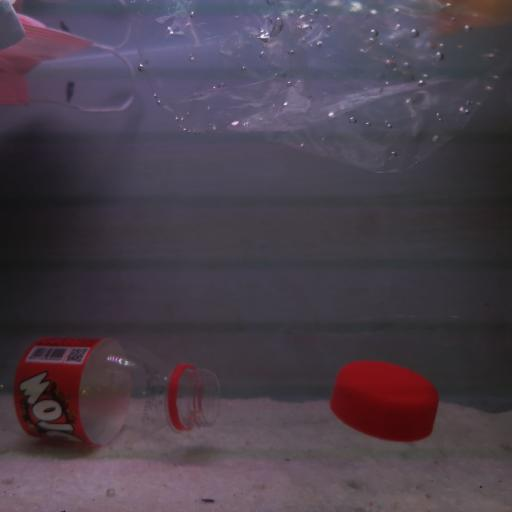bottle_cap: (332, 354, 440, 444)
mask: (2, 13, 137, 123)
plastic_bag: (136, 2, 512, 176)
plastic_bottle: (0, 336, 223, 452)
